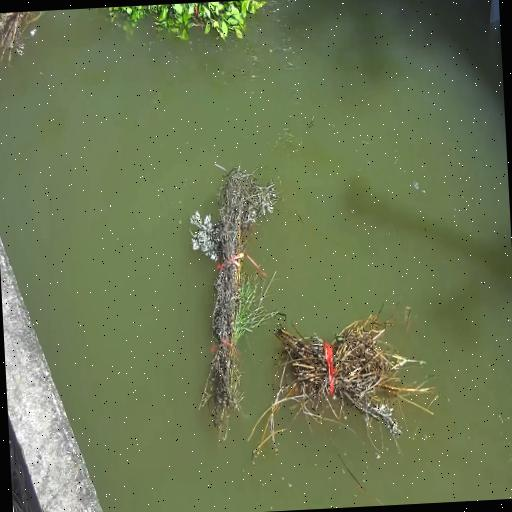twig: (180, 154, 290, 441), (242, 302, 424, 460), (101, 0, 286, 50), (0, 9, 70, 74)
